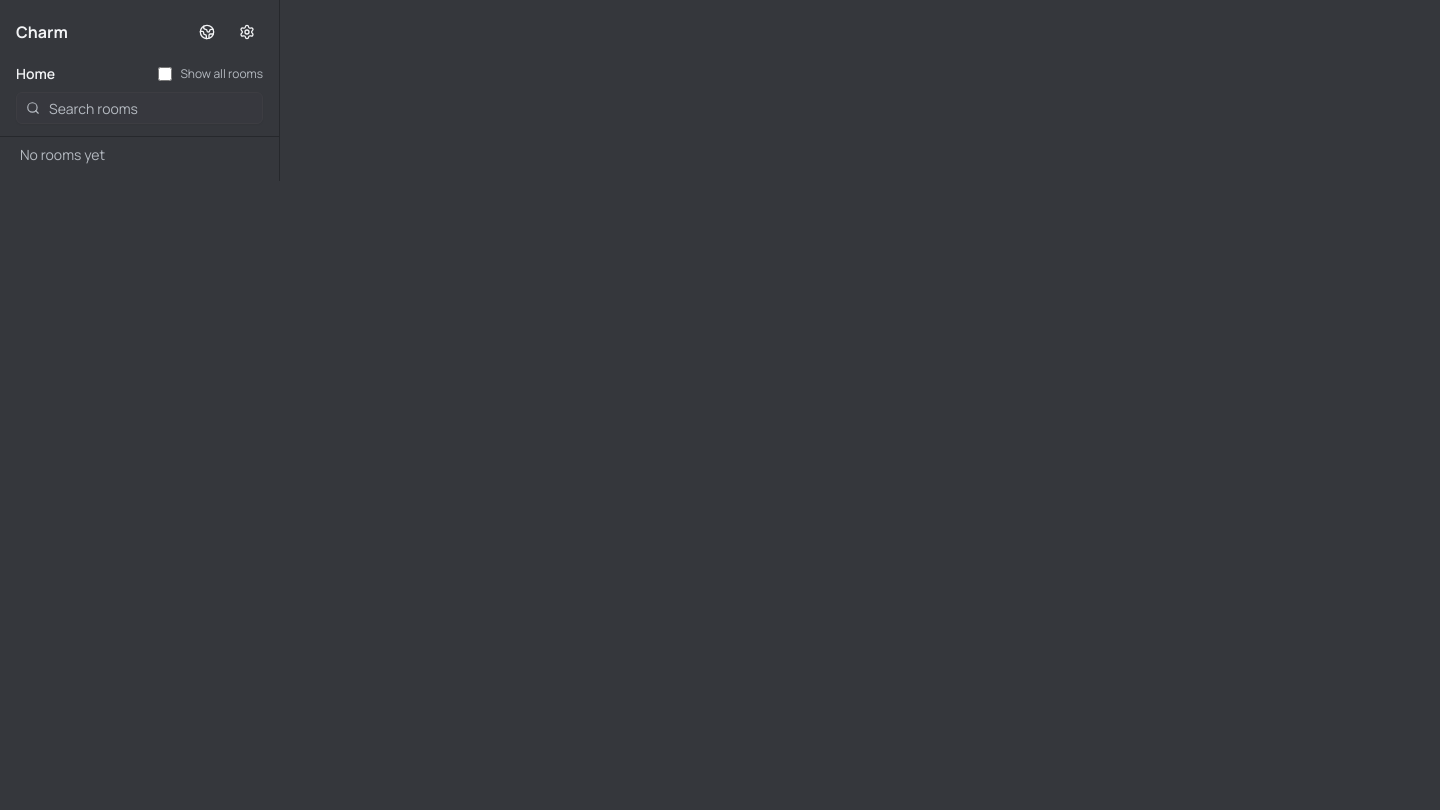
Scenario: RoomList › opens the public room browser only when its feature flag is enabled
Expected: the button "Browse public rooms" is not shown
Click the button named "Browse public rooms": [207, 32] box [191, 16, 223, 48]
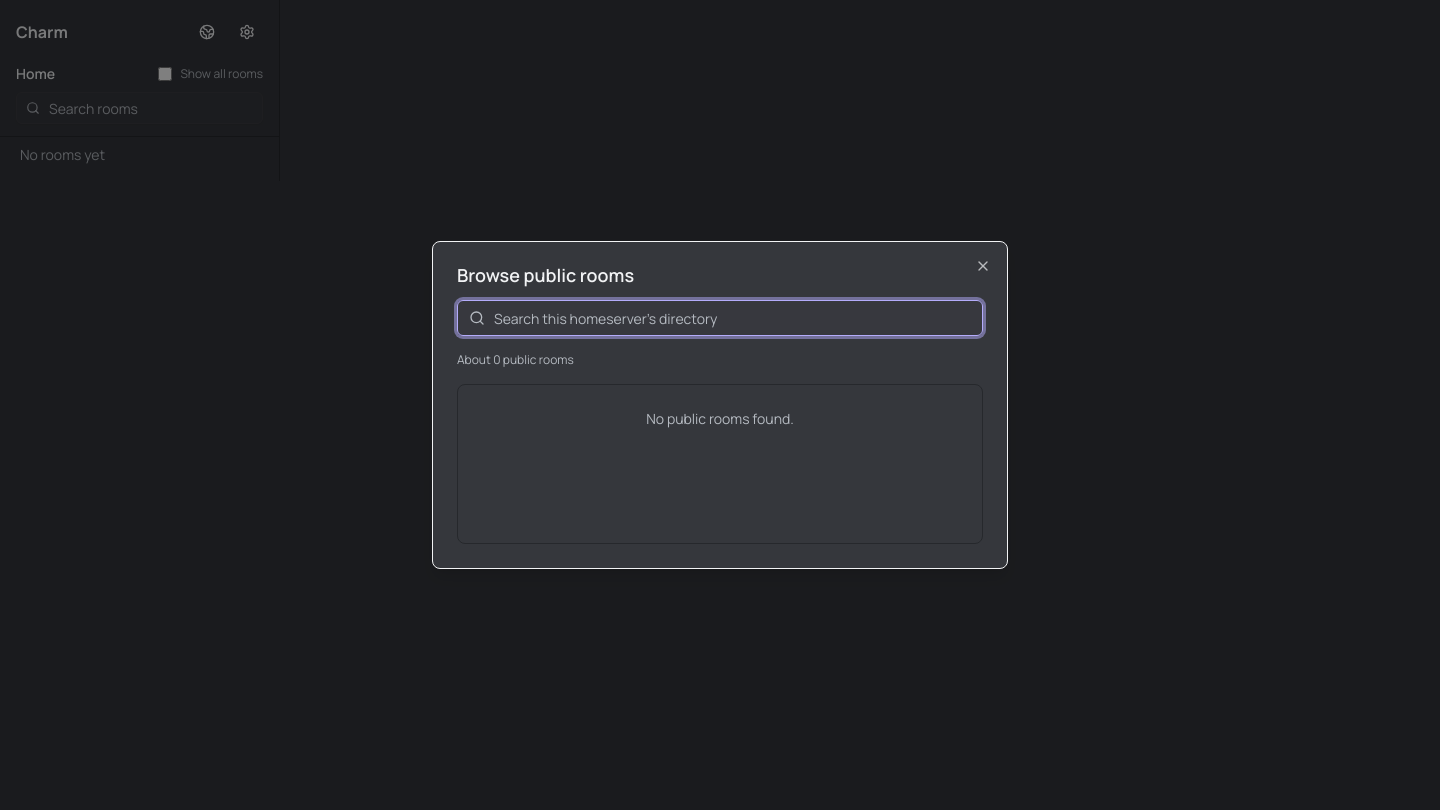
Result: the dialog "Browse public rooms" is shown at [432, 241, 1008, 569]
